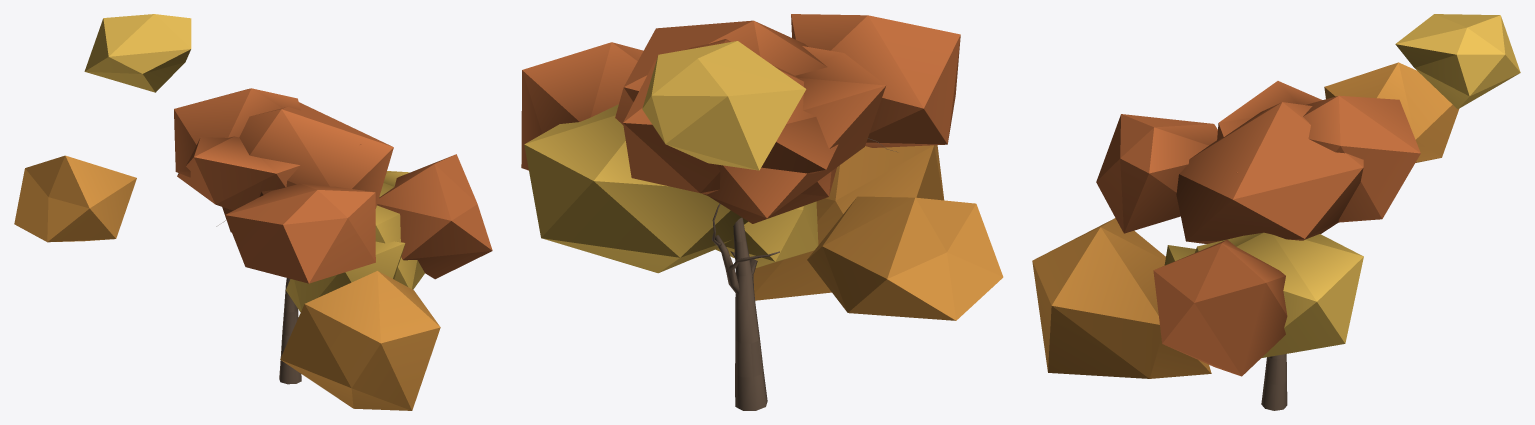
File: obj_deco_matorral_3.glb
3 views of the same model, side by side, from view 1: azimuth 30°, elevation 25°; view 2: azimuth 150°, elevation 25°; view 3: azimuth 270°, elevation 25° (orthographic). The views are drawn at different scales.
Parts seen in each view (by area): view 1: propforge-libre-deco_matorral; view 2: propforge-libre-deco_matorral; view 3: propforge-libre-deco_matorral.
Boxes of the visible parts, x1,y1,x2,y2 form: propforge-libre-deco_matorral: [14, 14, 492, 410]; propforge-libre-deco_matorral: [521, 14, 1003, 410]; propforge-libre-deco_matorral: [1032, 14, 1520, 410].
Bounding box in the file's own units: 0.8042 × 0.6332 × 0.798.
